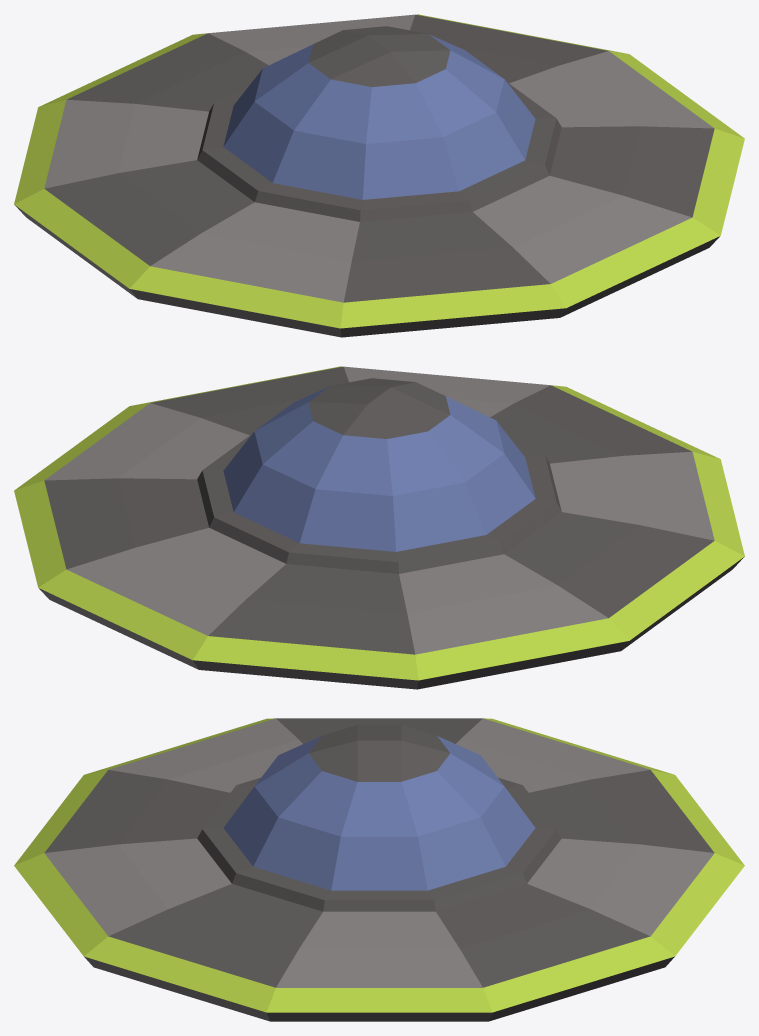
The model's file is ufo.fbx.
3 views of the same model, one above another, from view 1: azimuth 30°, elevation 25°; view 2: azimuth 150°, elevation 25°; view 3: azimuth 270°, elevation 25° (orthographic). The views are drawn at different scales.
Parts seen in each view (by area): view 1: ufo; view 2: ufo; view 3: ufo.
Boxes of the visible parts, left/top/right/bottom form: ufo: left=14, top=14, right=744, bottom=337; ufo: left=14, top=366, right=744, bottom=689; ufo: left=14, top=718, right=744, bottom=1021.
Size of the model in its own units: 12.73 by 4.53 by 13.38.
